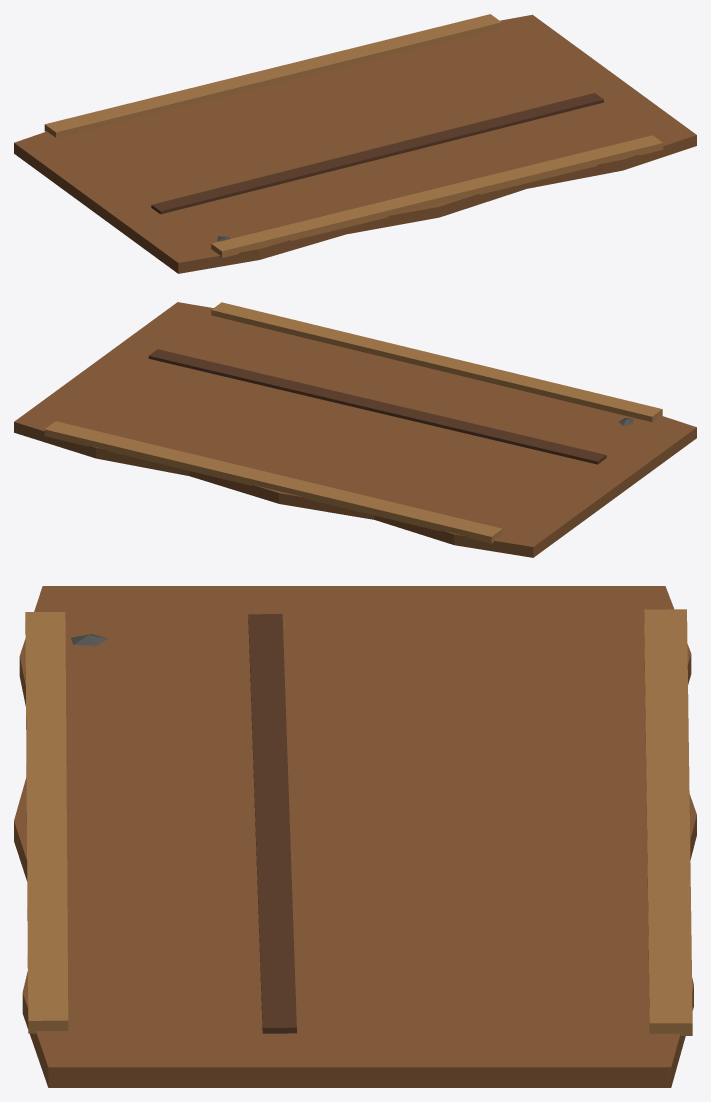
The picture shows the model from 3 angles, top to bottom: view 1: azimuth 30°, elevation 25°; view 2: azimuth 150°, elevation 25°; view 3: azimuth 270°, elevation 25°; orthographic projection. The views are drawn at different scales.
Parts seen in each view (by area): view 1: WK_TownHardscape_TH07_LOD2; view 2: WK_TownHardscape_TH07_LOD2; view 3: WK_TownHardscape_TH07_LOD2.
Part boxes in pixels (x1,y1,x2,y2): WK_TownHardscape_TH07_LOD2: (14, 14, 696, 273); WK_TownHardscape_TH07_LOD2: (14, 302, 696, 557); WK_TownHardscape_TH07_LOD2: (14, 586, 696, 1087).
Bounding box in the file's own units: 4 × 0.12 × 2.4.
